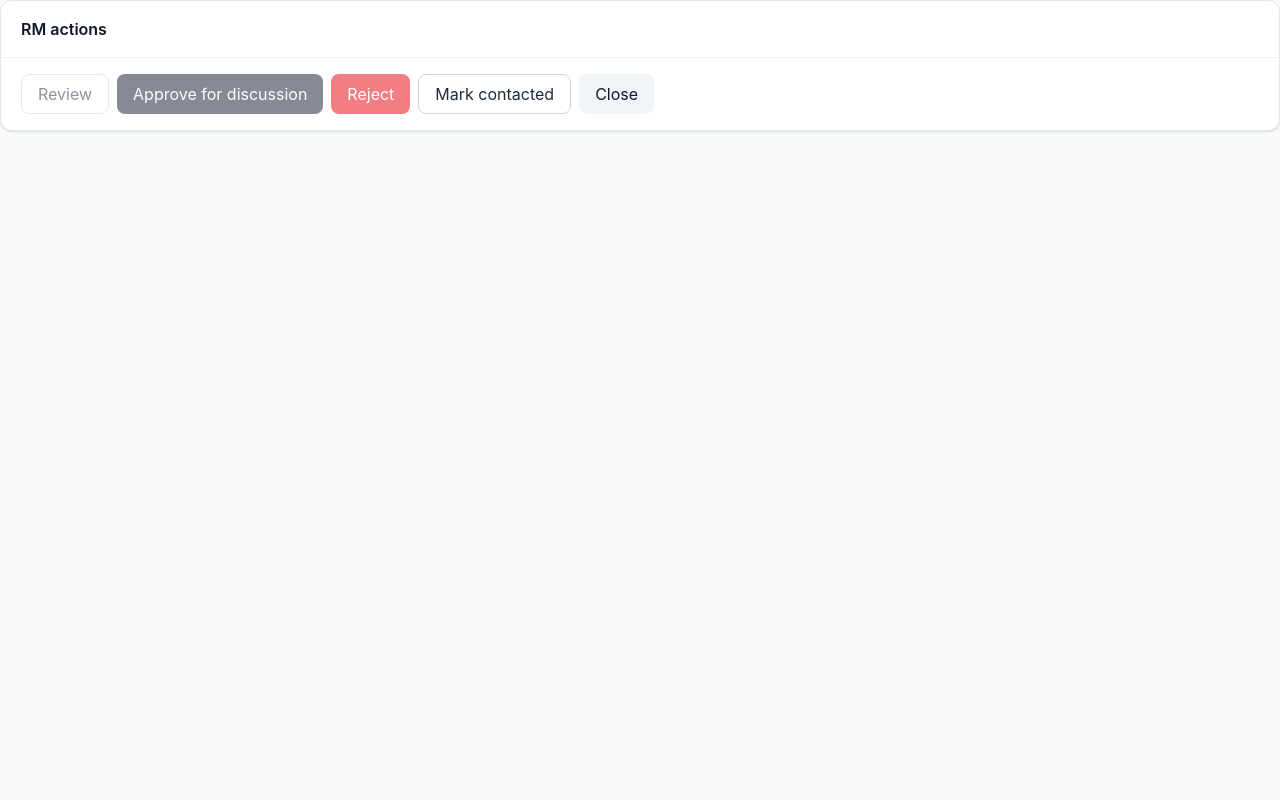
Test: RMActionPanel › shows contacted form fields
This screenshot has width=1280, height=800.
Click the button "Mark contacted" at (495, 94), box [418,74,571,114]
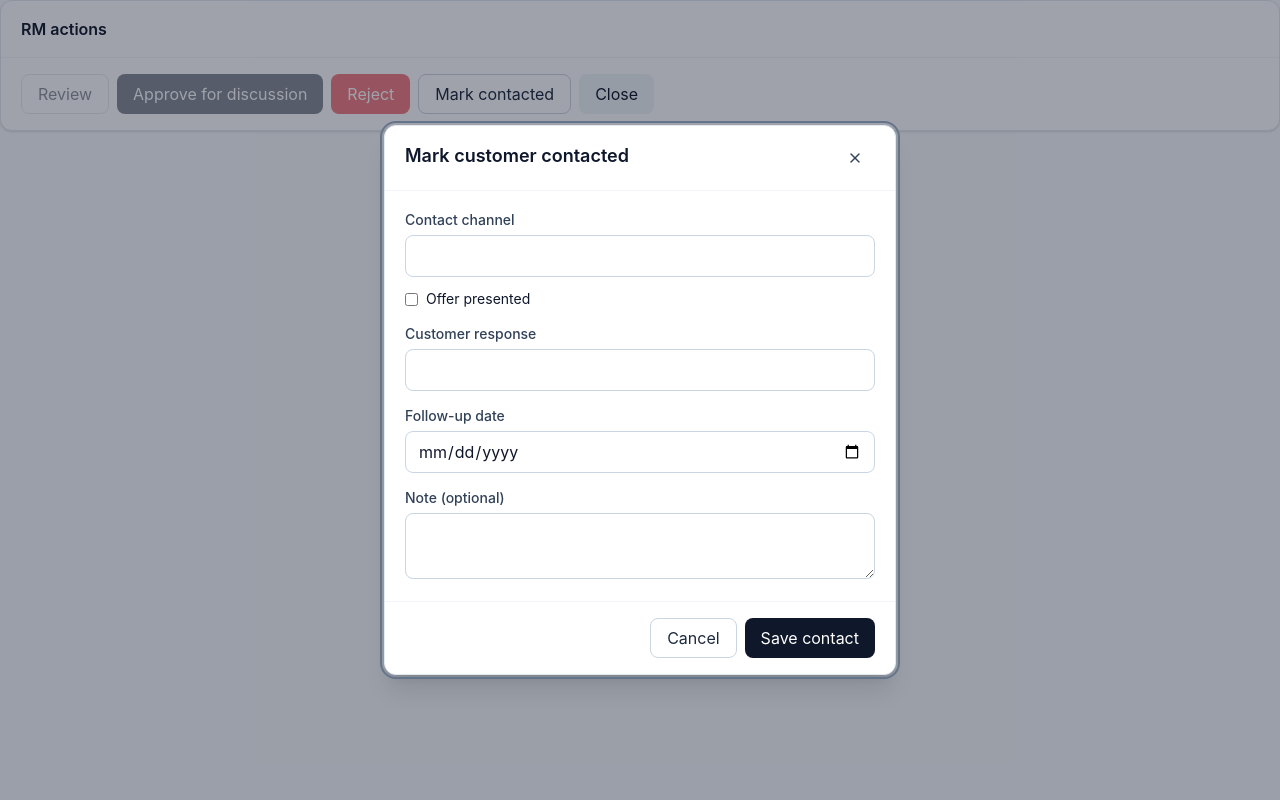
Expected: the field labelled "Contact channel" is shown, [405,235,875,277]
Expected: the field labelled "Customer response" is shown, [405,349,875,391]
